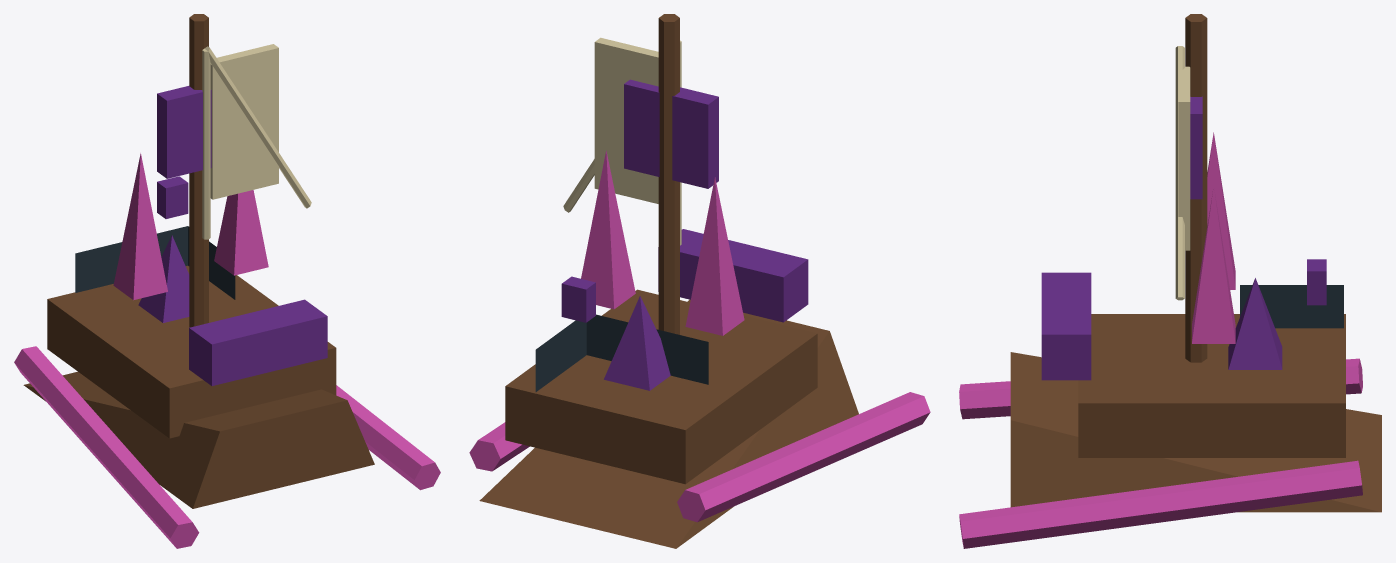
File: raft.obj
The picture shows the model from 3 angles, left to right: view 1: azimuth 30°, elevation 25°; view 2: azimuth 150°, elevation 25°; view 3: azimuth 270°, elevation 25°; orthographic projection. The views are drawn at different scales.
Parts seen in each view (by area): view 1: ship; view 2: ship; view 3: ship.
Part boxes in pixels (x1,y1,x2,y2): ship: (14, 14, 440, 548); ship: (469, 14, 930, 548); ship: (959, 14, 1381, 548).
Size of the model in its own units: 1.56 by 2.33 by 1.93.
